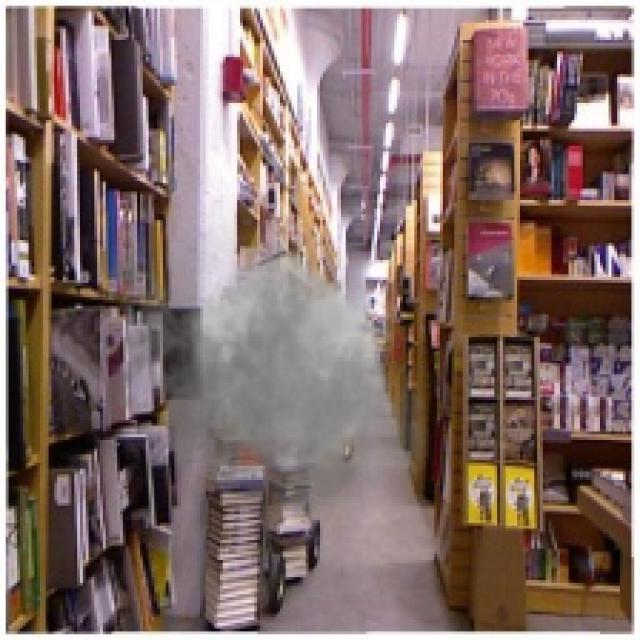Smoke: (94, 188, 443, 540)
